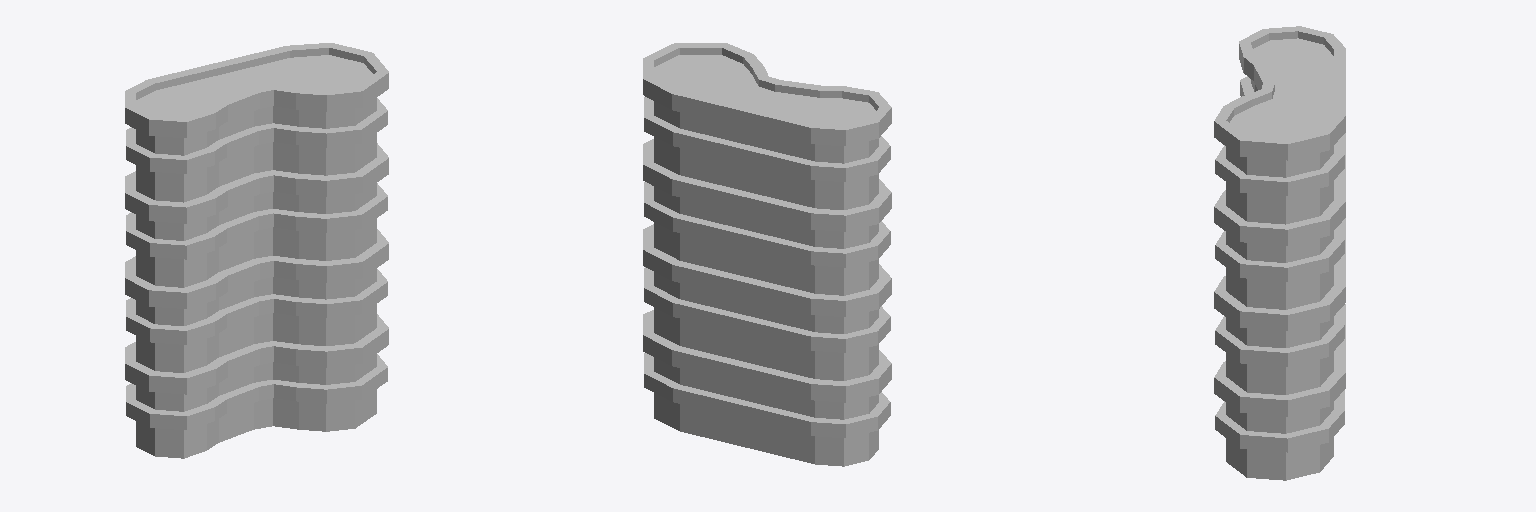
Rendered from KBuilding2.obj.
The picture shows the model from 3 angles: view 1: azimuth 30°, elevation 25°; view 2: azimuth 150°, elevation 25°; view 3: azimuth 270°, elevation 25°; orthographic projection.
Visible parts, largest first — view 1: Circle_Circle.002; view 2: Circle_Circle.002; view 3: Circle_Circle.002.
Boxes of the visible parts, x1=… form: Circle_Circle.002: x1=125, y1=43, x2=388, y2=458; Circle_Circle.002: x1=643, y1=43, x2=891, y2=466; Circle_Circle.002: x1=1214, y1=26, x2=1345, y2=480.
Size of the model in its own units: 22.22 by 29.94 by 10.47.